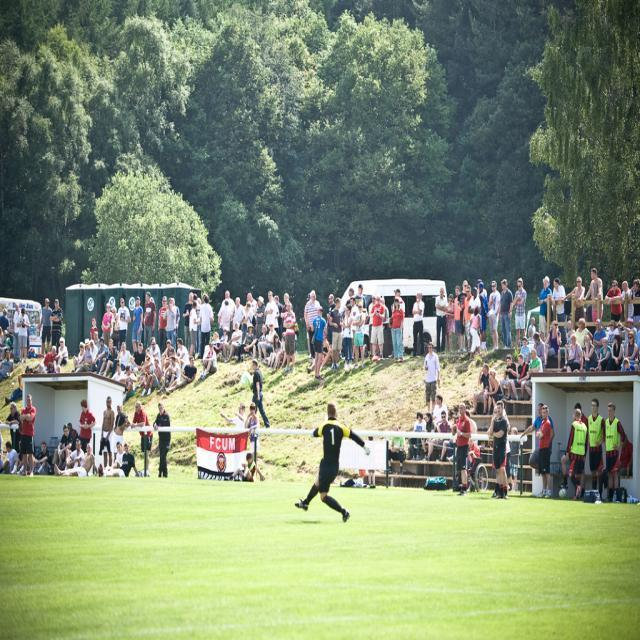ball: (559, 488, 568, 498)
